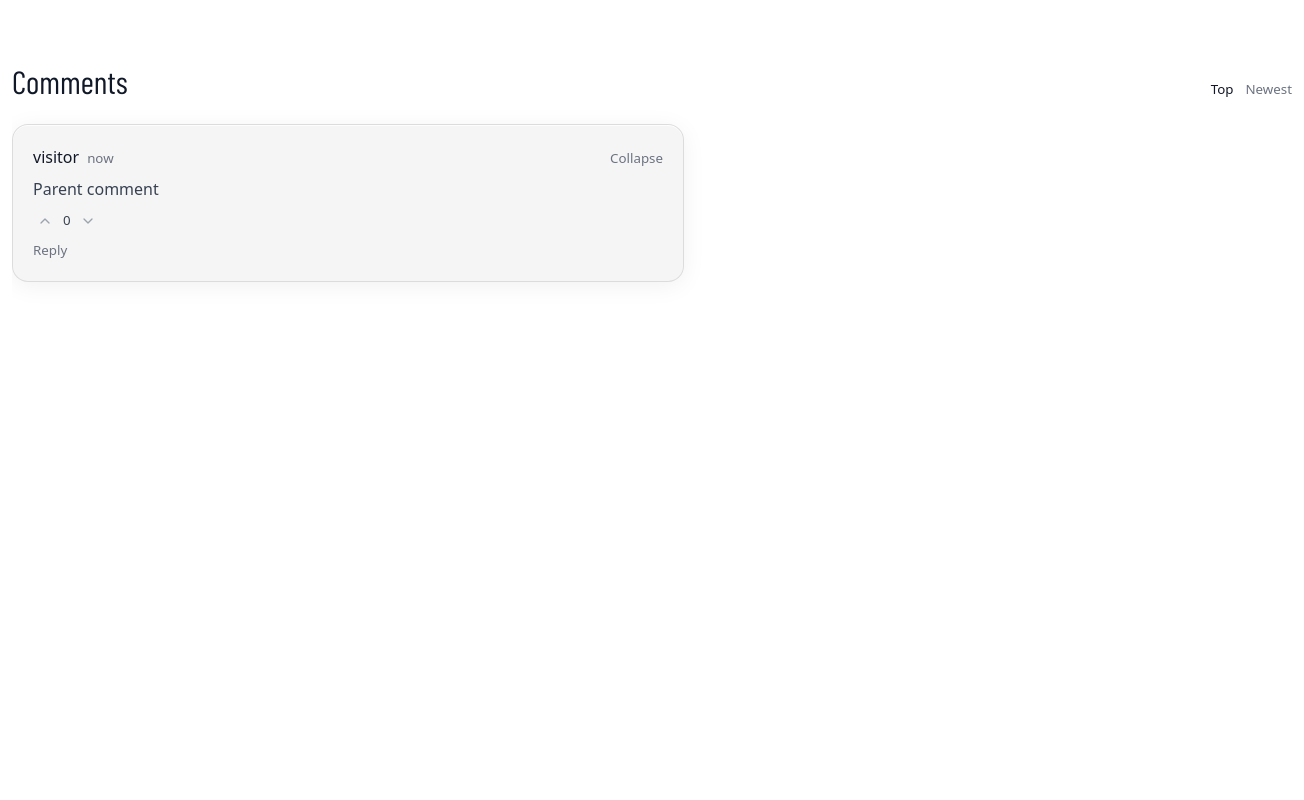
CommentsSection › posts a reply with the parent comment id and appends it nested under the parent
Expected: the text "Parent comment" is shown, [33,178,159,200]
Click the button "Reply" at {"x": 50, "y": 251}, box [33,241,67,261]
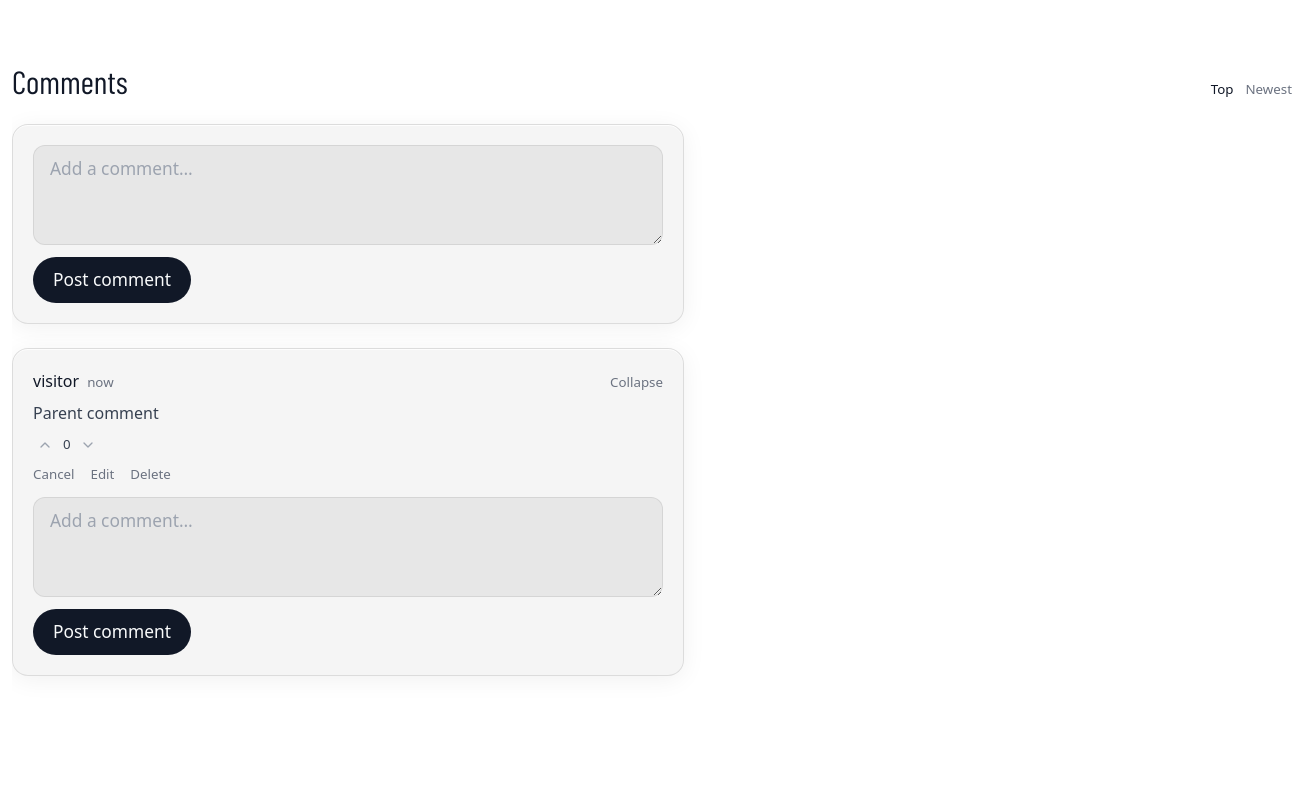
Type "Nested reply" into the text box with placeholder "Add a comment…" below "Parent comment" at {"x": 348, "y": 547}, box [33,497,663,597]
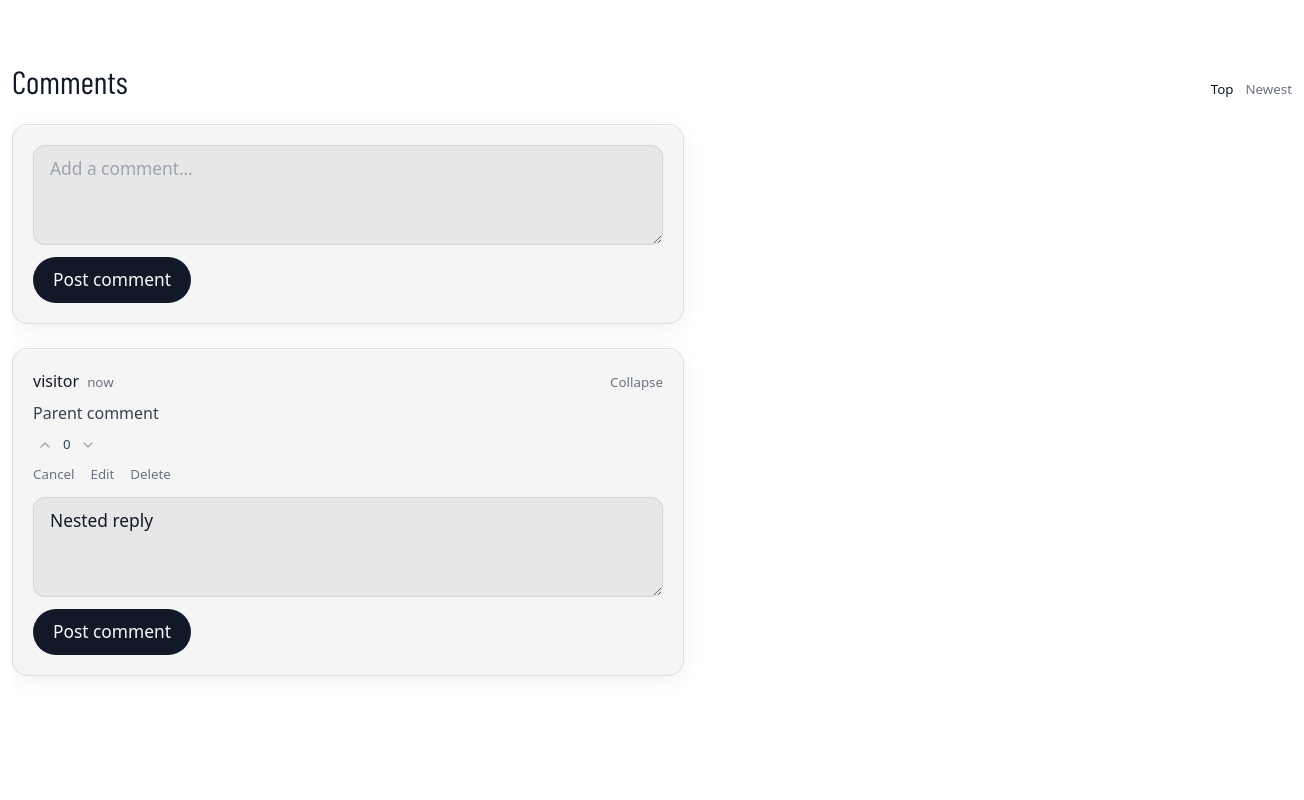
Click the button "Post comment" below "Parent comment" at {"x": 112, "y": 632}, box [33,609,191,655]
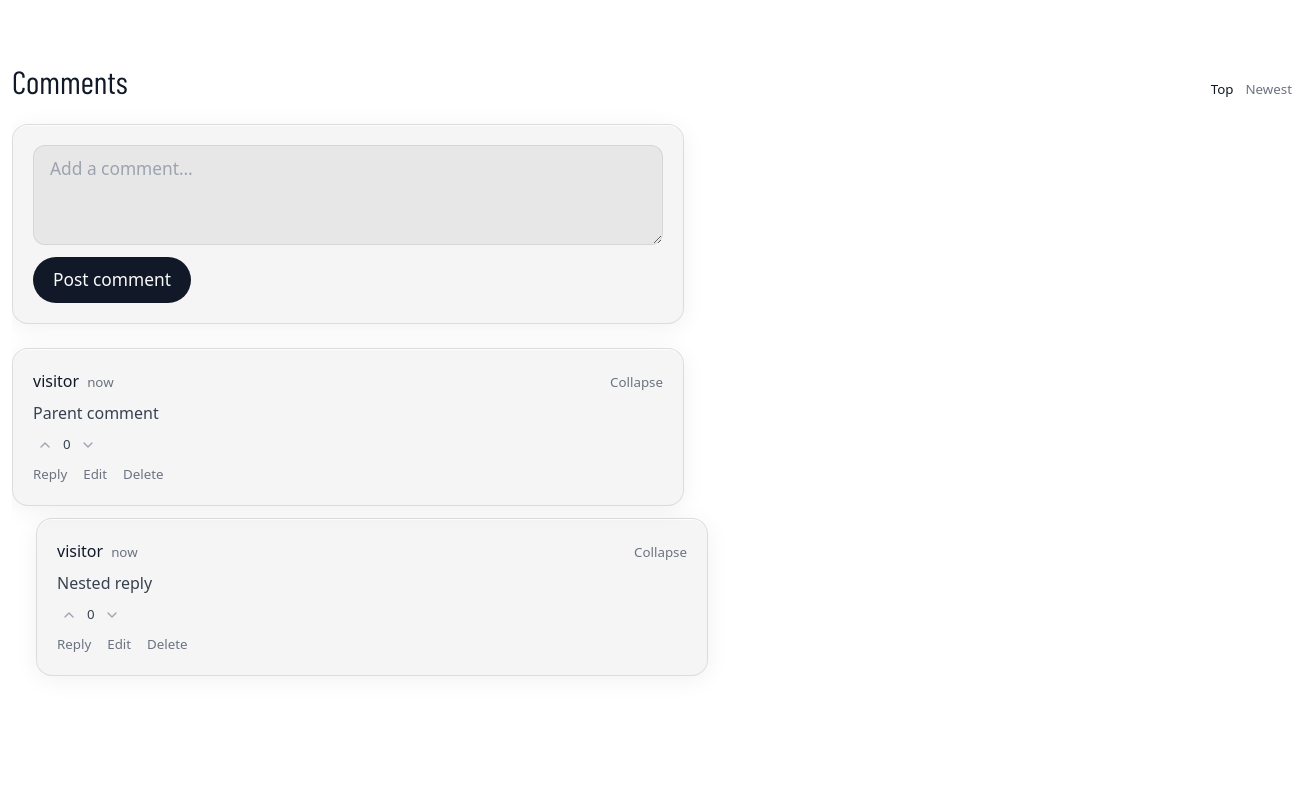
Now the text "Nested reply" is shown, box [57,572,152,594]
